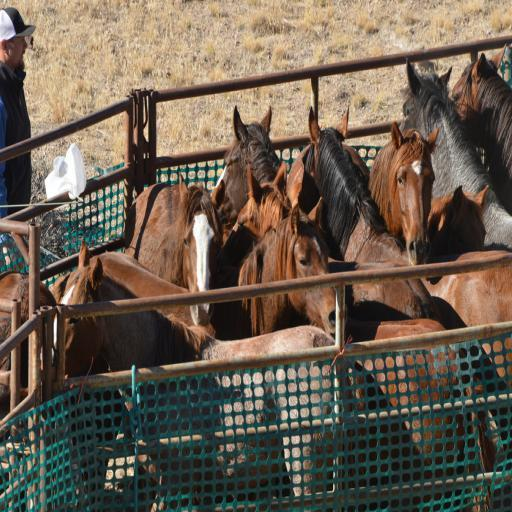Horse: (0, 39, 512, 512)
